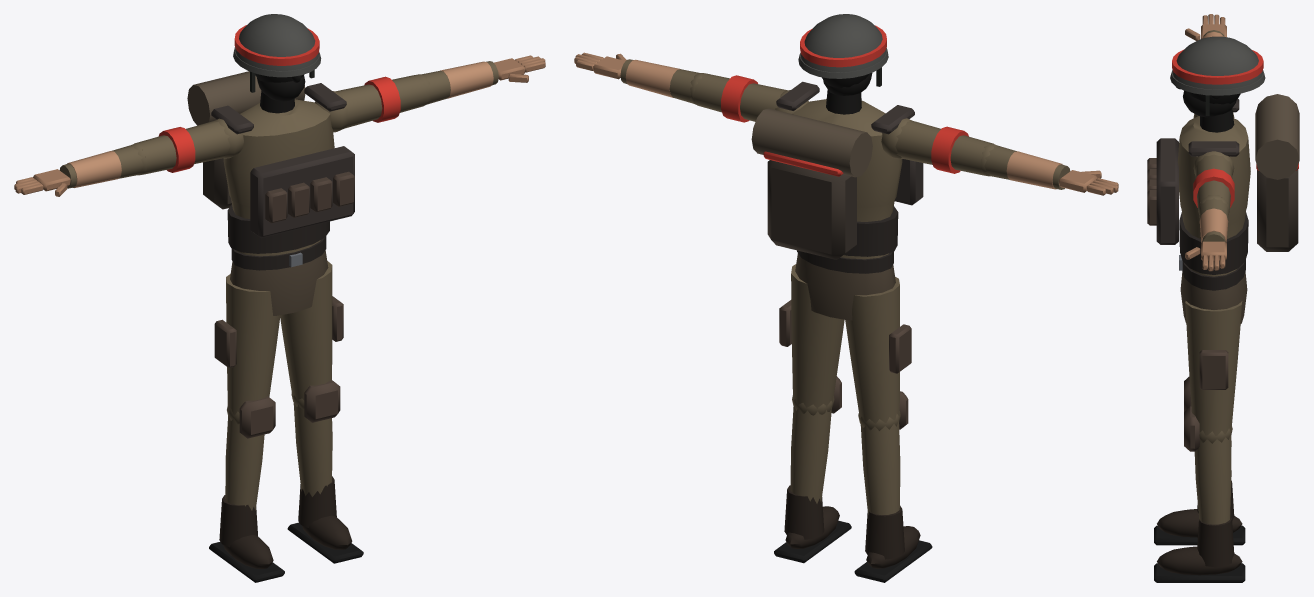
The model's file is SK_Soldado_Enemigo_TPose.fbx.
3 renders of one model, left to right at view 1: azimuth 30°, elevation 25°; view 2: azimuth 150°, elevation 25°; view 3: azimuth 270°, elevation 25°, orthographic. The views are drawn at different scales.
Visible parts, largest first — view 1: SK_Soldado_Enemigo; view 2: SK_Soldado_Enemigo; view 3: SK_Soldado_Enemigo.
Part boxes in pixels (left/top/right/bottom): SK_Soldado_Enemigo: left=14, top=14, right=545, bottom=582; SK_Soldado_Enemigo: left=574, top=14, right=1118, bottom=582; SK_Soldado_Enemigo: left=1147, top=14, right=1299, bottom=582.
Bounding box in the file's own units: 1.88 × 1.8 × 0.48.
Materials: 1 (1 with a texture image).
